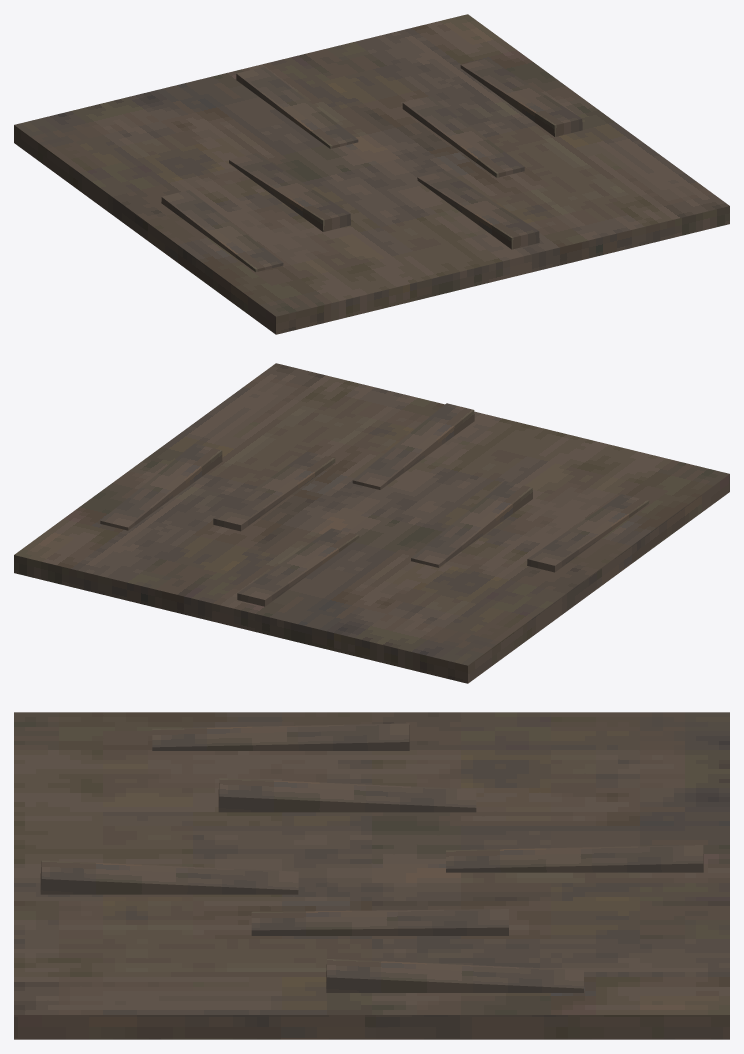
The model's file is item_halloween_floor.glb.
3 views of the same model, one above another, from view 1: azimuth 30°, elevation 25°; view 2: azimuth 150°, elevation 25°; view 3: azimuth 270°, elevation 25° (orthographic). The views are drawn at different scales.
Parts seen in each view (by area): view 1: Floor; view 2: Floor; view 3: Floor.
Part boxes in pixels (bbox=[...]): Floor: bbox=[14, 14, 729, 334]; Floor: bbox=[14, 363, 729, 683]; Floor: bbox=[14, 712, 729, 1039].
Bounding box in the file's own units: 1.99 × 0.1238 × 1.99.
1 material, 1 textured.
